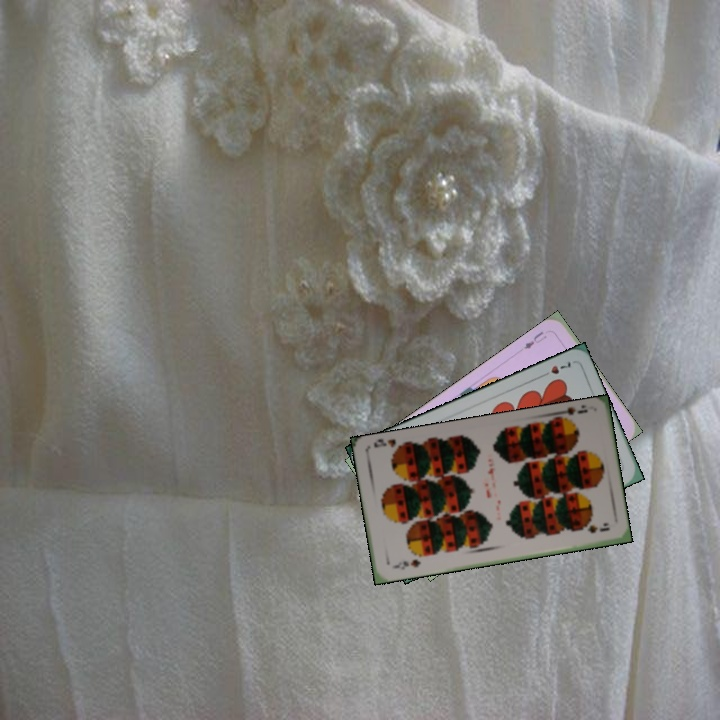EU: (520, 327, 550, 352)
H7: (537, 357, 573, 380)
S9: (553, 404, 590, 426), (388, 555, 423, 572)
